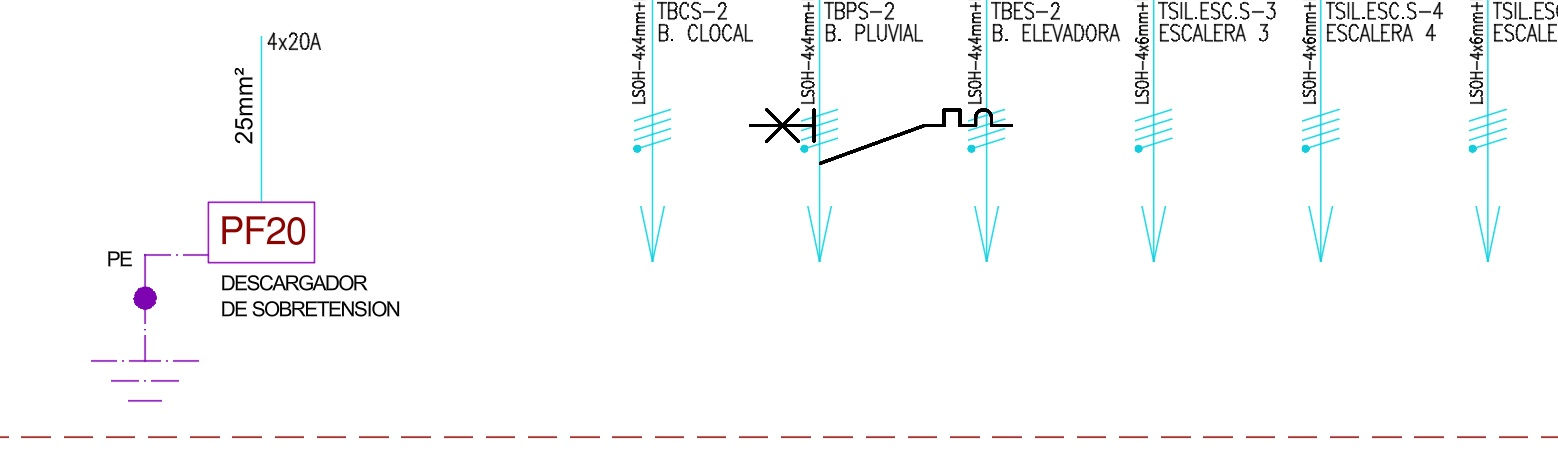interruptor_termomagnetico: (744, 103, 1018, 170)
